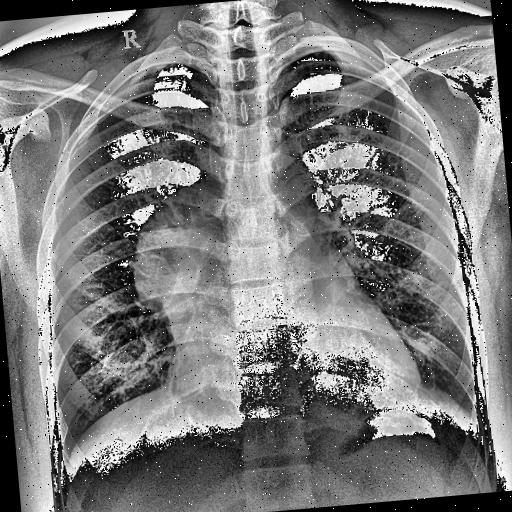8- Nodule-Mass: (98, 166, 272, 332), (102, 164, 238, 317), (115, 148, 230, 312)
